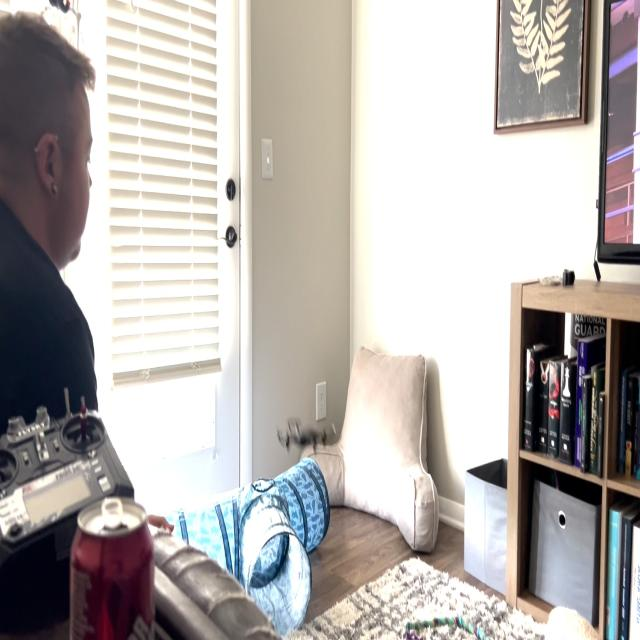drone: (268, 409, 344, 463)
